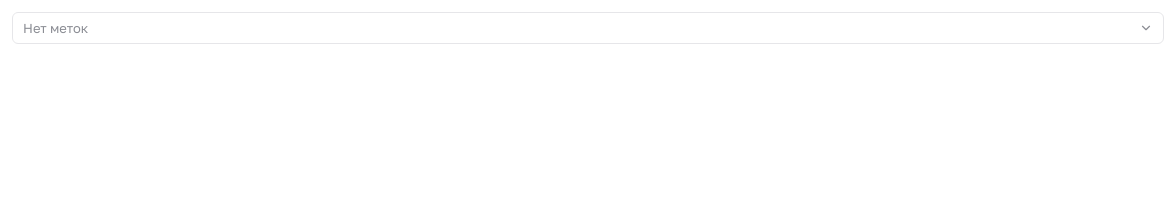
Test: label picker › says when there are no labels yet and creates one on the spot
This screenshot has width=1176, height=210.
Later steps or results of the test are not shown.
Click the button "Нет меток" at (56, 28), box x1=12 y1=12 x2=1164 y2=44
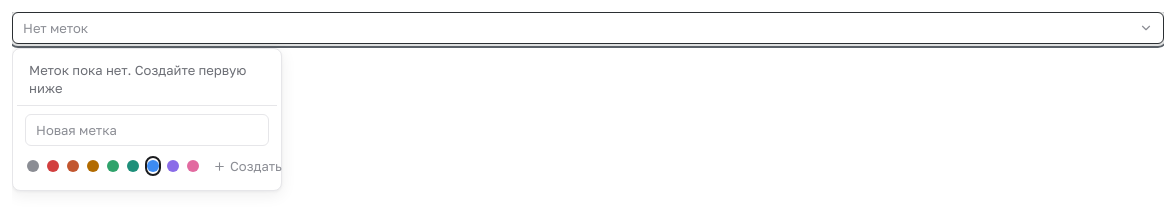
Result: the text "Меток пока нет. Создайте первую ниже" is shown at x1=29 y1=62 x2=246 y2=96
Result: the button "Создать" is disabled at x1=205 y1=154 x2=290 y2=178
